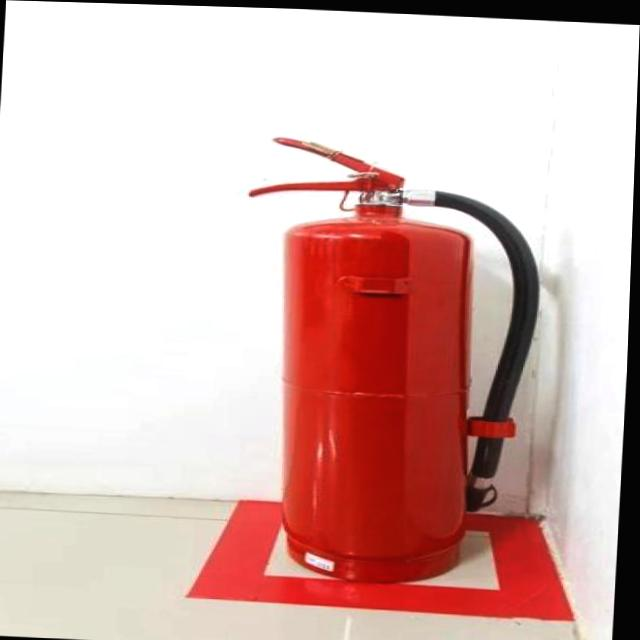FireExtinguisher: (223, 129, 560, 591)
